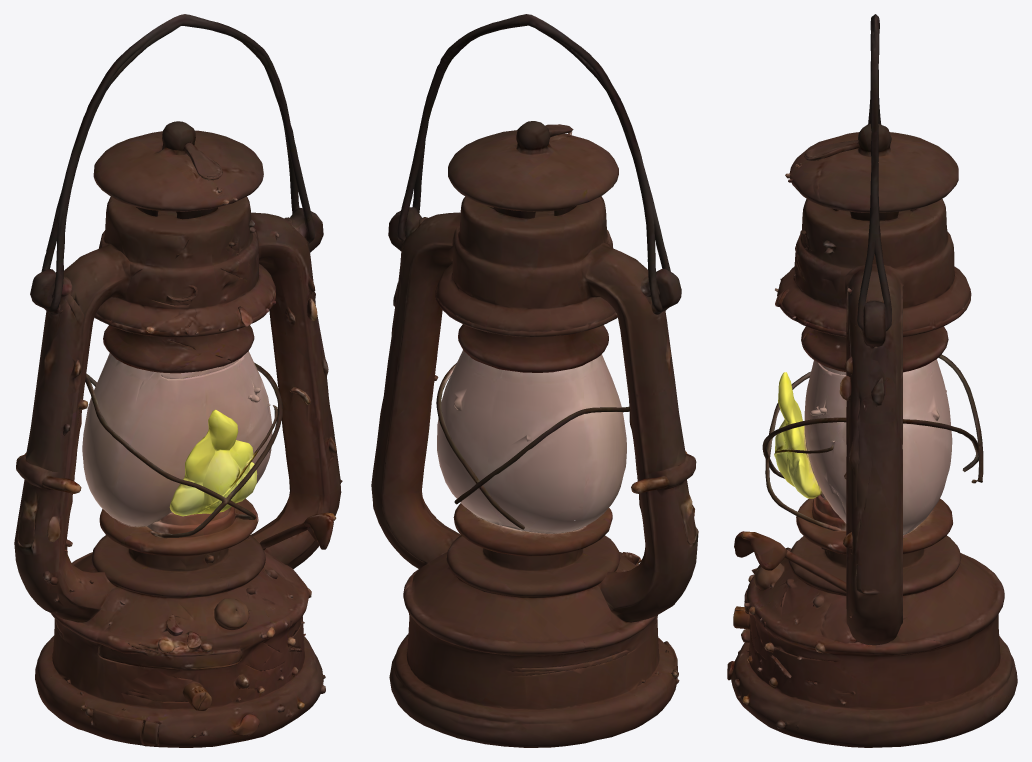
File: farol.glb
The picture shows the model from 3 angles, left to right: view 1: azimuth 30°, elevation 25°; view 2: azimuth 150°, elevation 25°; view 3: azimuth 270°, elevation 25°; orthographic projection.
Size of the model in its own units: 0.4812 by 0.9785 by 0.3823.
1 material, 1 textured.
